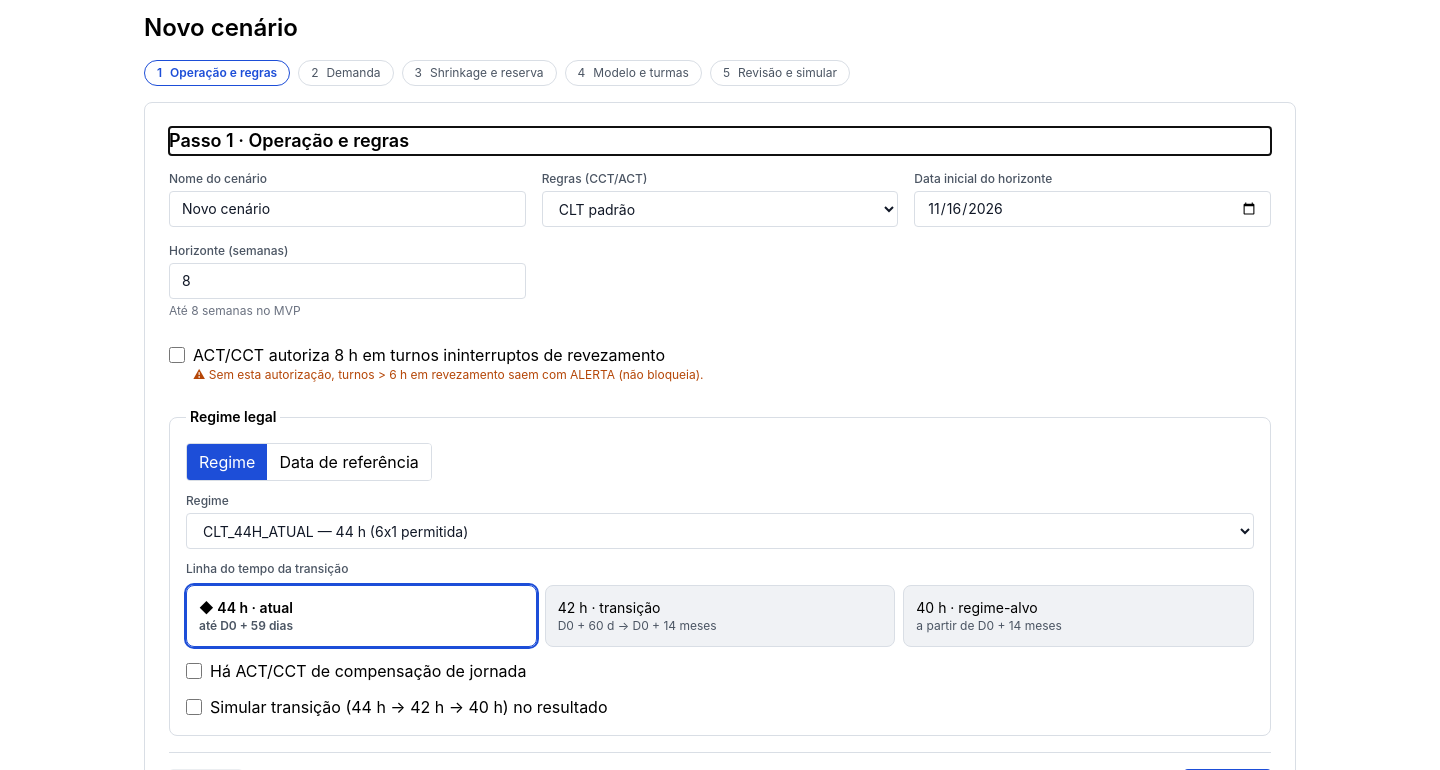
Scenario: Wizard de 5 passos (A26/A47) › passo 1 com data resolve o regime (GET /legal-regimes:resolve)
Click the radio button labelled "Data de referência": (349, 462) x1=267 y1=444 x2=431 y2=480
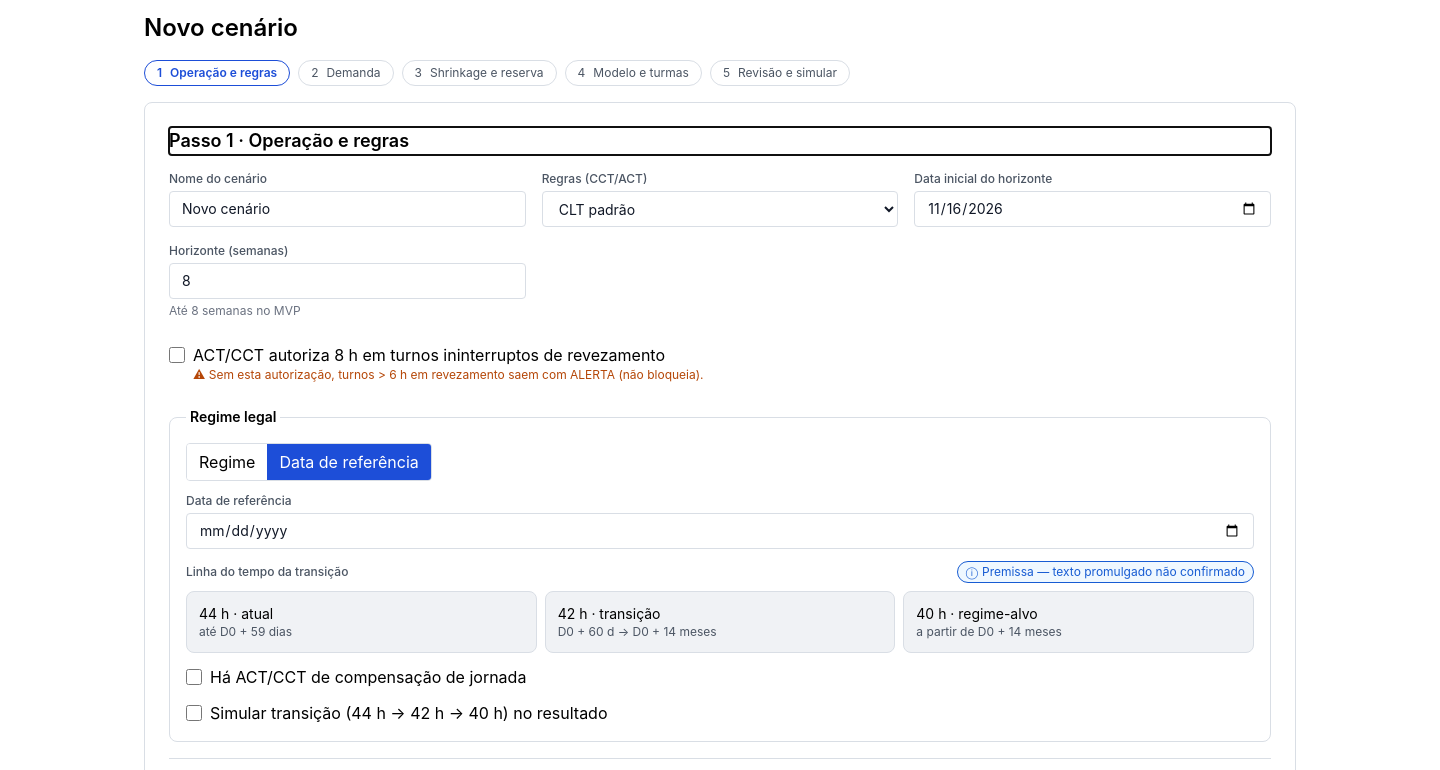
In the date field labelled "Data de referência": (720, 531) x1=186 y1=513 x2=1254 y2=549, type "2028-03-01"
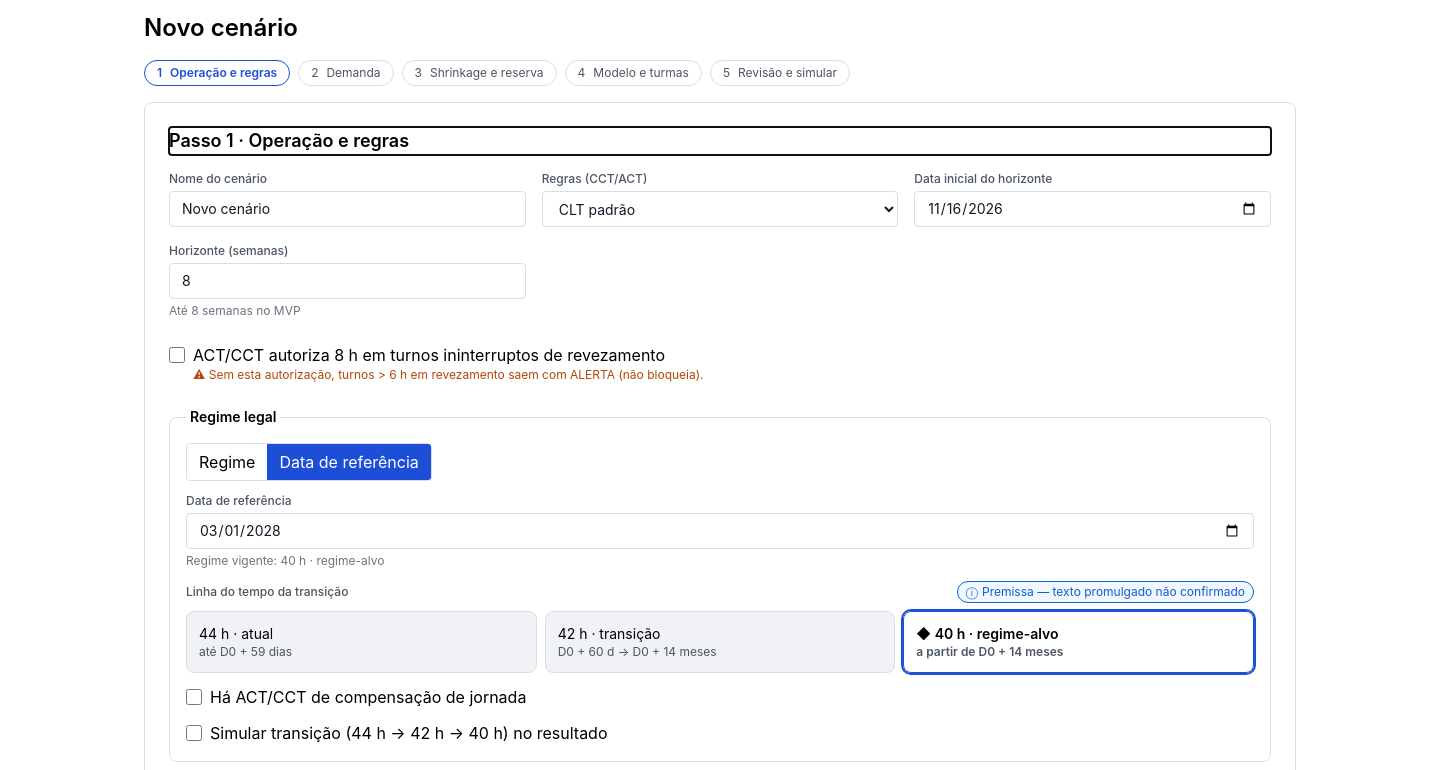
expect the list item "◆ 40 h · regime-alvo a partir de D0 + 14 meses" is shown: met, box x1=903 y1=611 x2=1254 y2=673
expect the text "Regime vigente: 40 h · regime-alvo" is shown: met, box x1=186 y1=553 x2=384 y2=568
